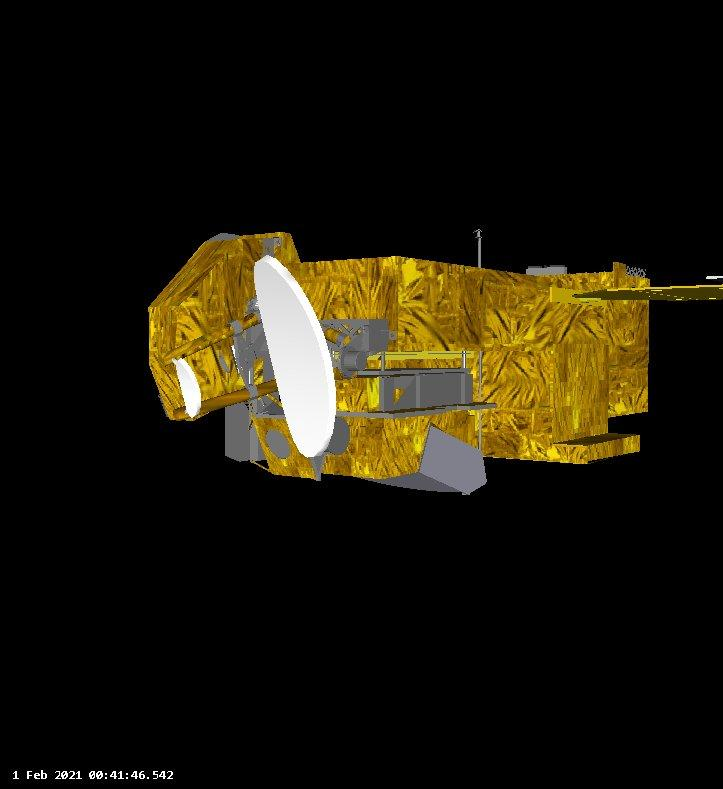antenna: (252, 253, 340, 462)
body: (221, 253, 655, 500)
solar: (595, 280, 723, 304)
